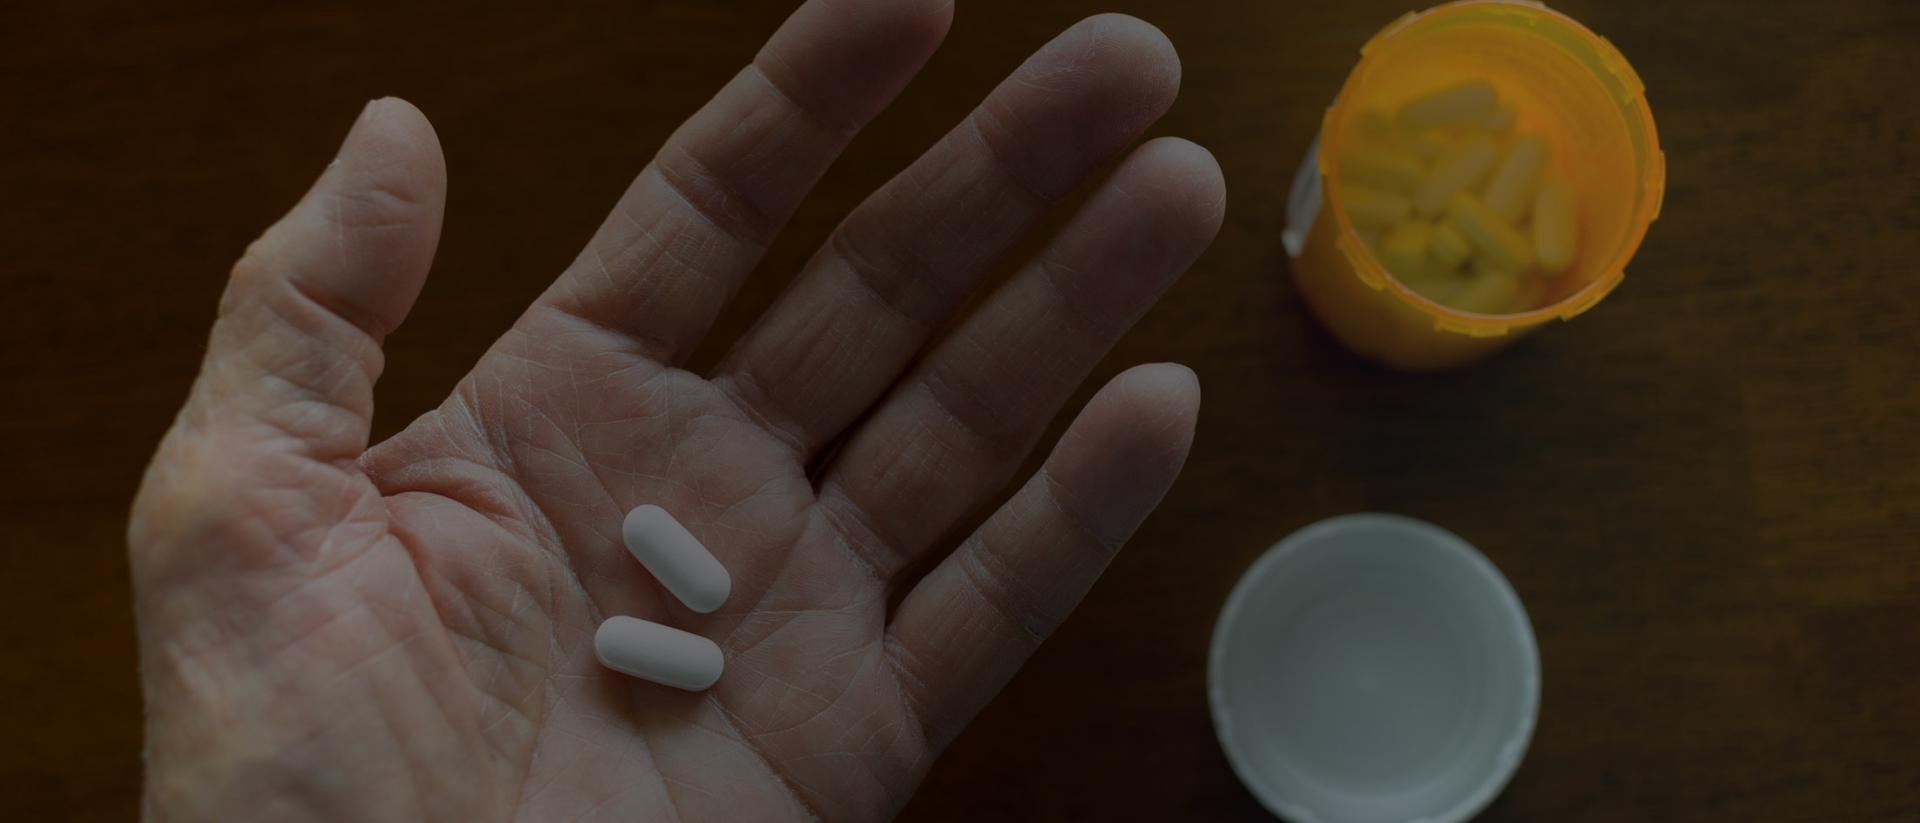pills: (571, 601, 740, 720), (628, 480, 744, 614)
